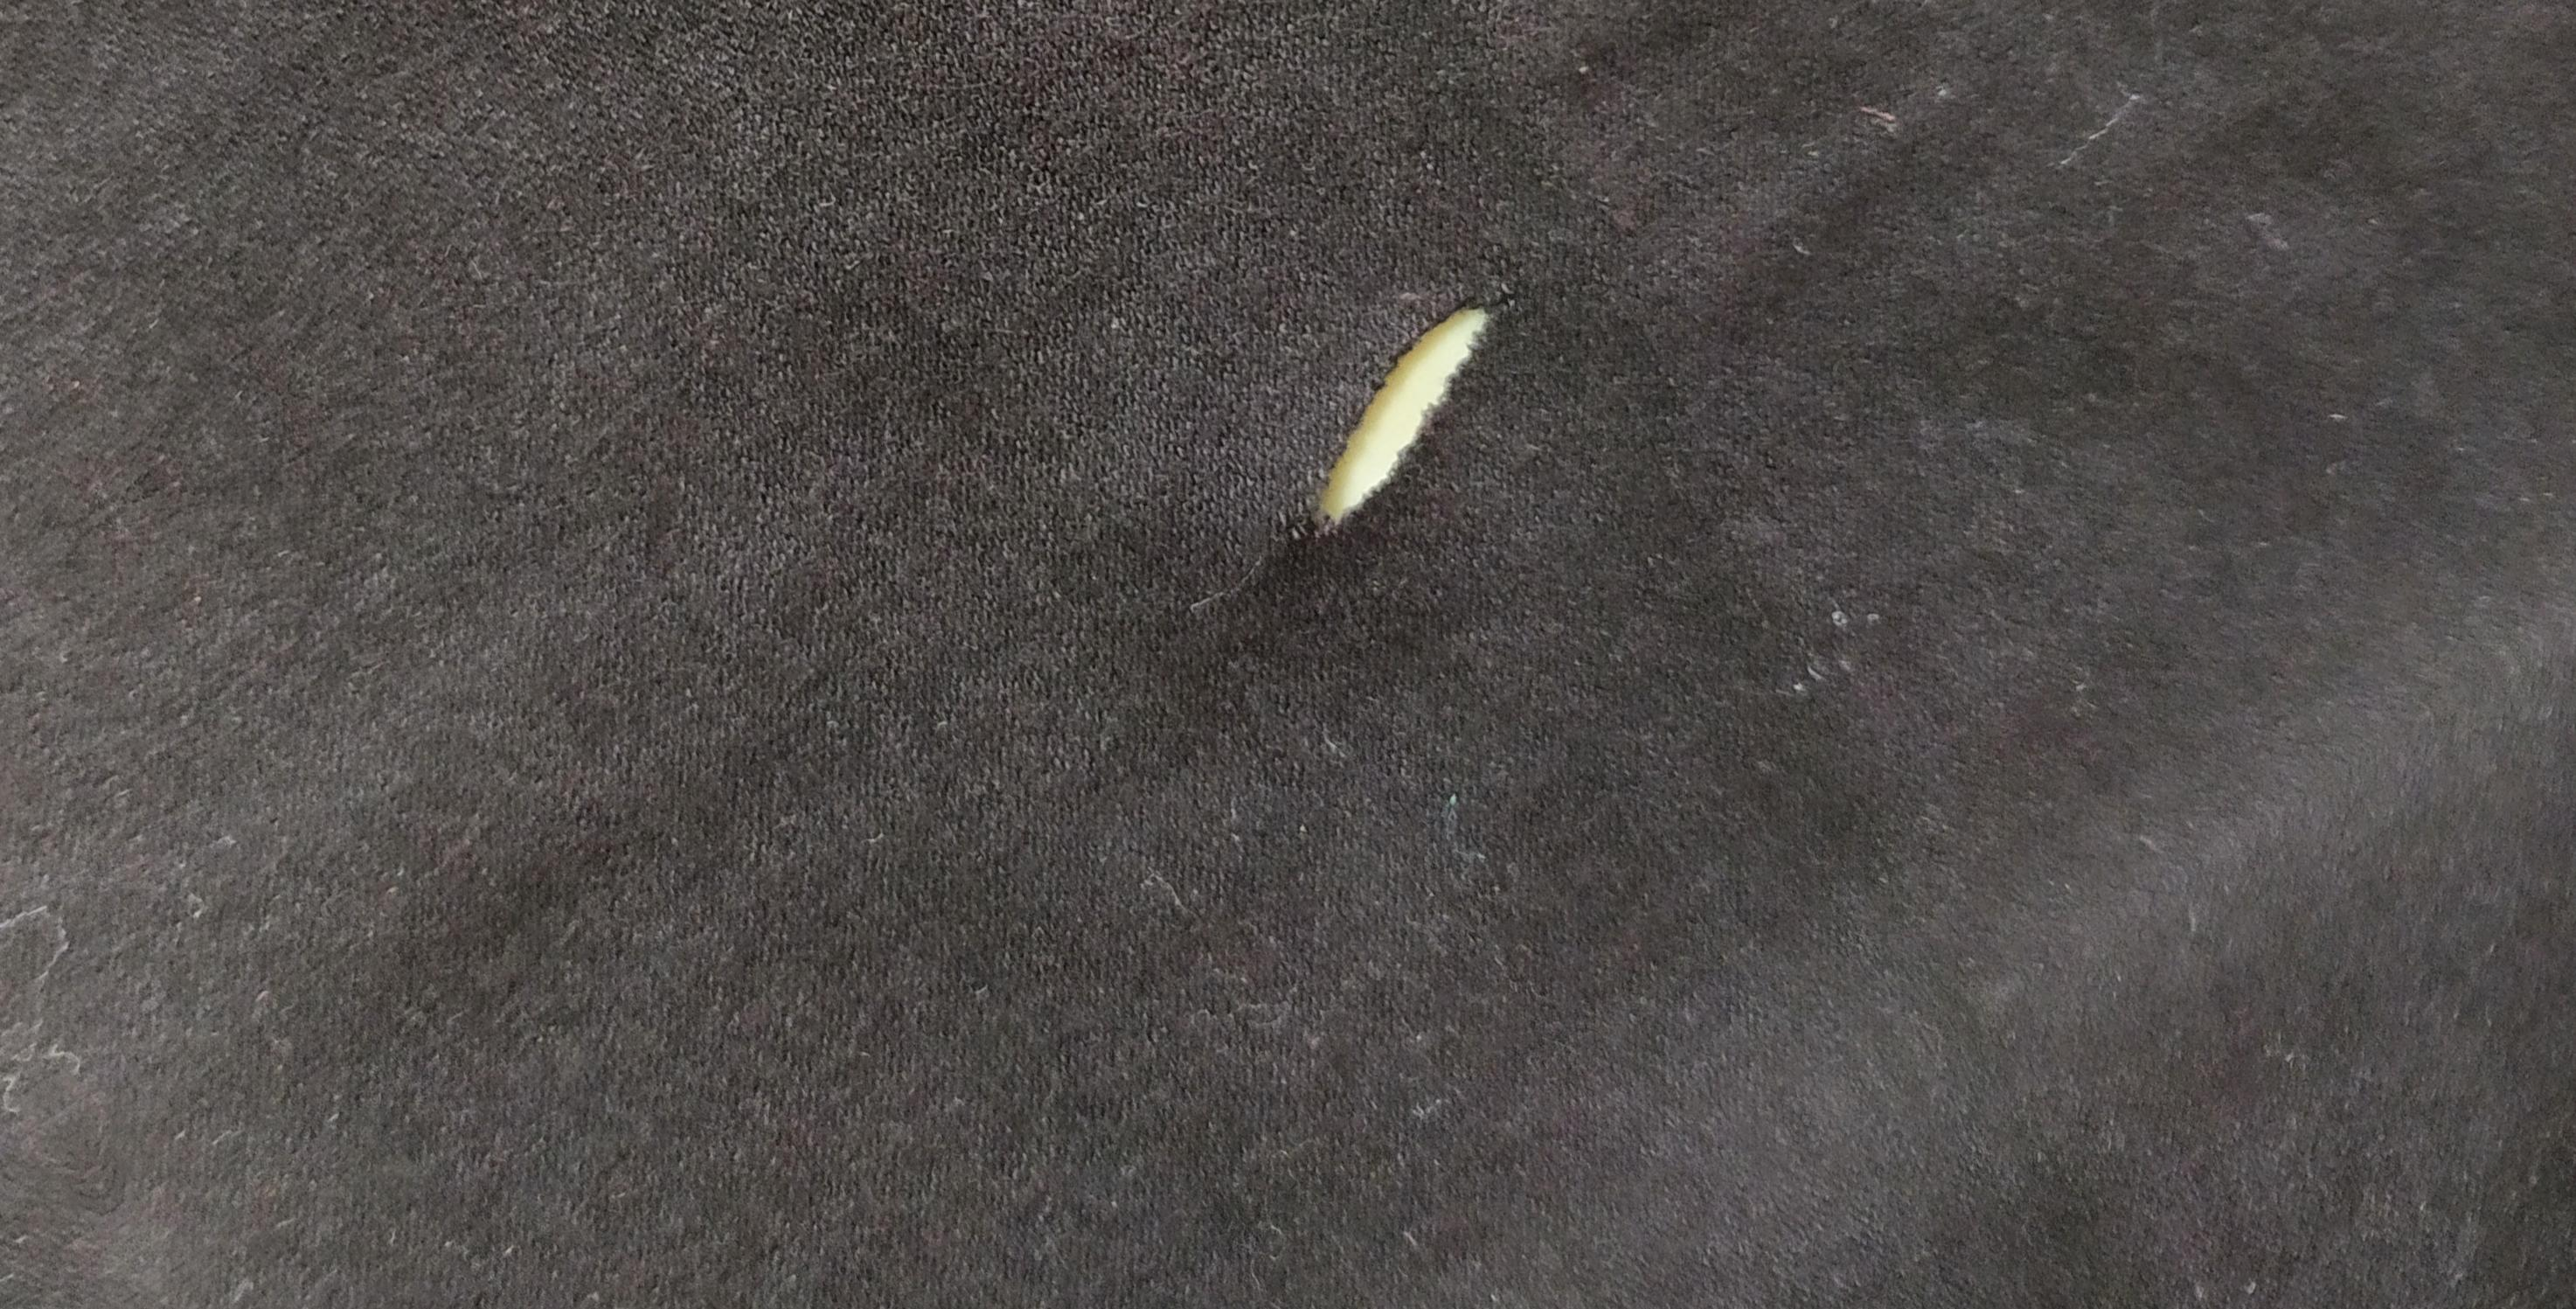hole: (1271, 294, 1508, 568)
